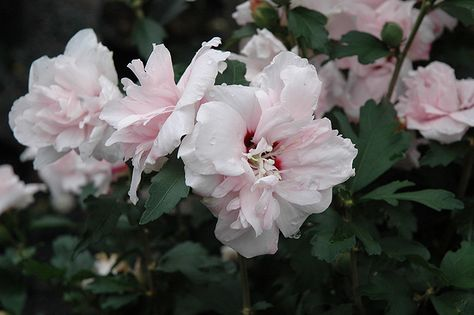Hibiscus: (182, 56, 375, 265), (20, 33, 189, 197), (395, 56, 474, 153)
